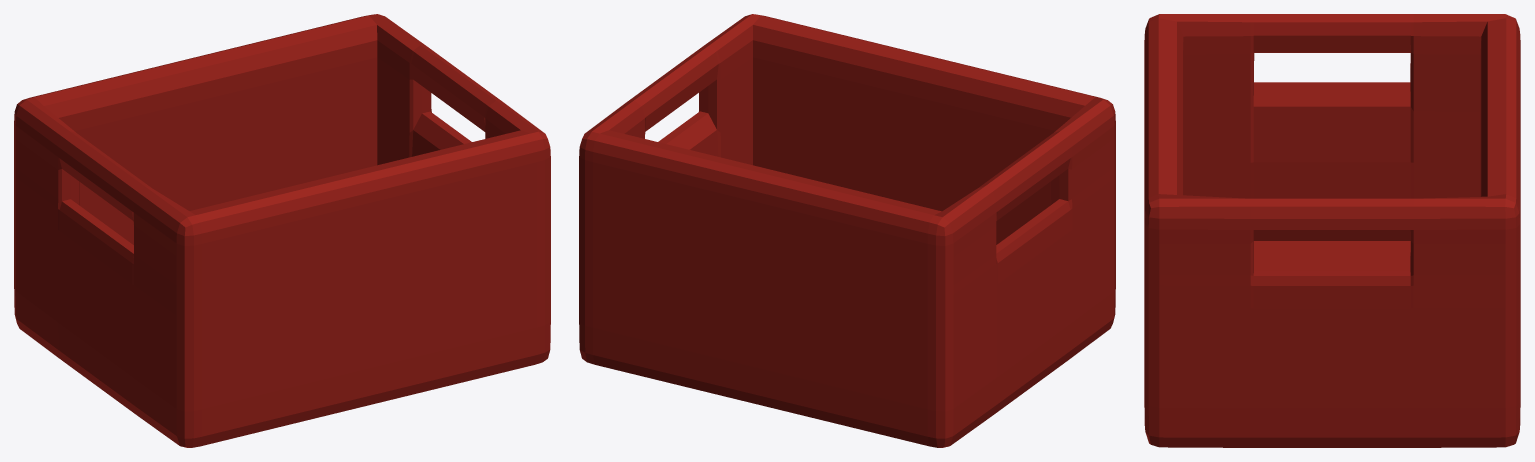
File: kasta.fbx
The picture shows the model from 3 angles, left to right: view 1: azimuth 30°, elevation 25°; view 2: azimuth 150°, elevation 25°; view 3: azimuth 270°, elevation 25°; orthographic projection. The views are drawn at different scales.
Visible parts, largest first — view 1: Cube; view 2: Cube; view 3: Cube.
Boxes of the visible parts, x1,y1,x2,y2 form: Cube: (14, 14, 550, 447); Cube: (579, 14, 1115, 447); Cube: (1144, 14, 1520, 447).
Bounding box in the file's own units: 49.59 × 29.42 × 40.13.
